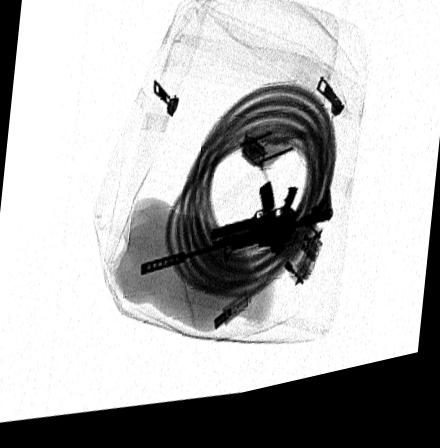Gun: (137, 194, 333, 284)
